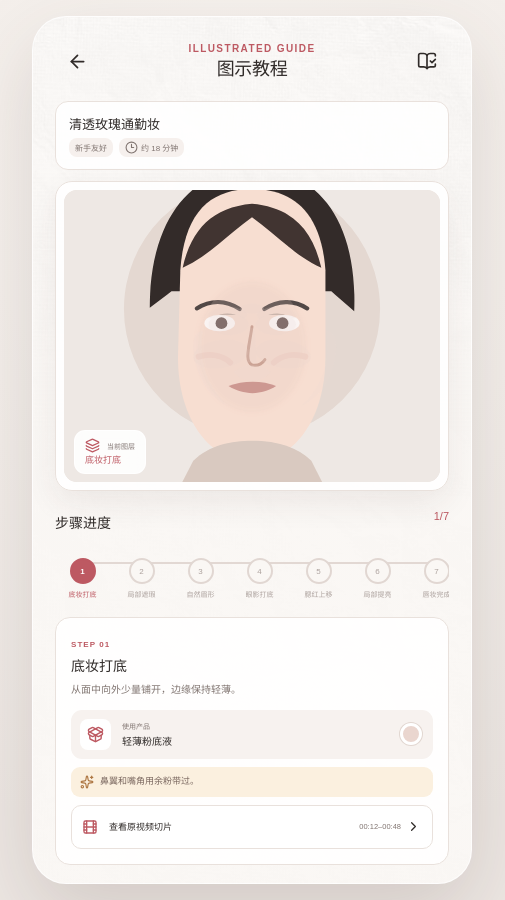
changes current step for eye makeup without eye guide
Click the button with aria-label "4. 眼影打底" at x=260, y=578, box [232,548,287,609]
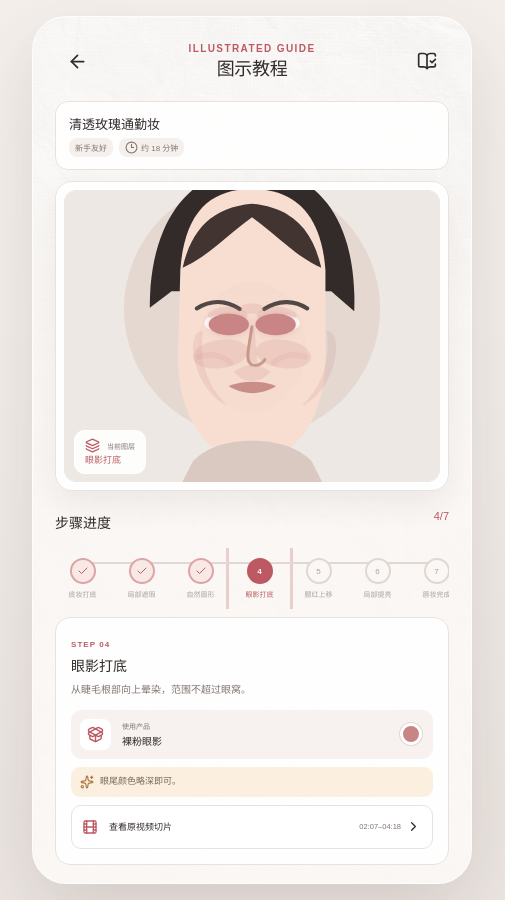
Expected: the text "裸粉眼影" is shown, [122,736,162,746]
